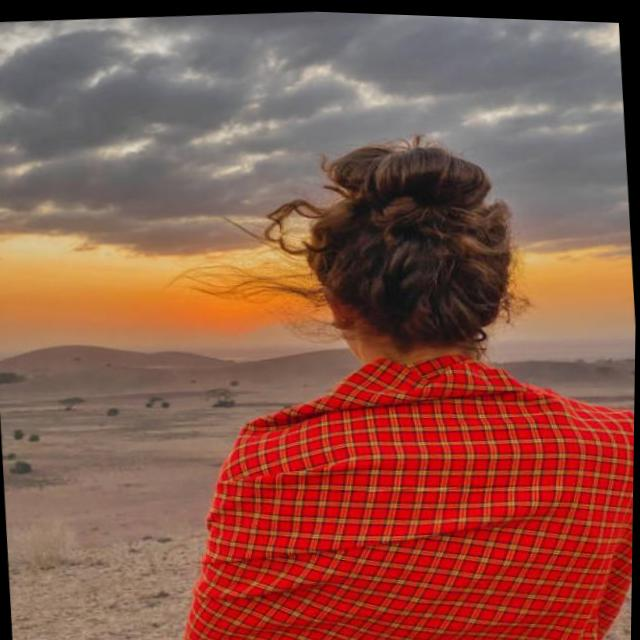no helmet: (259, 123, 533, 374)
